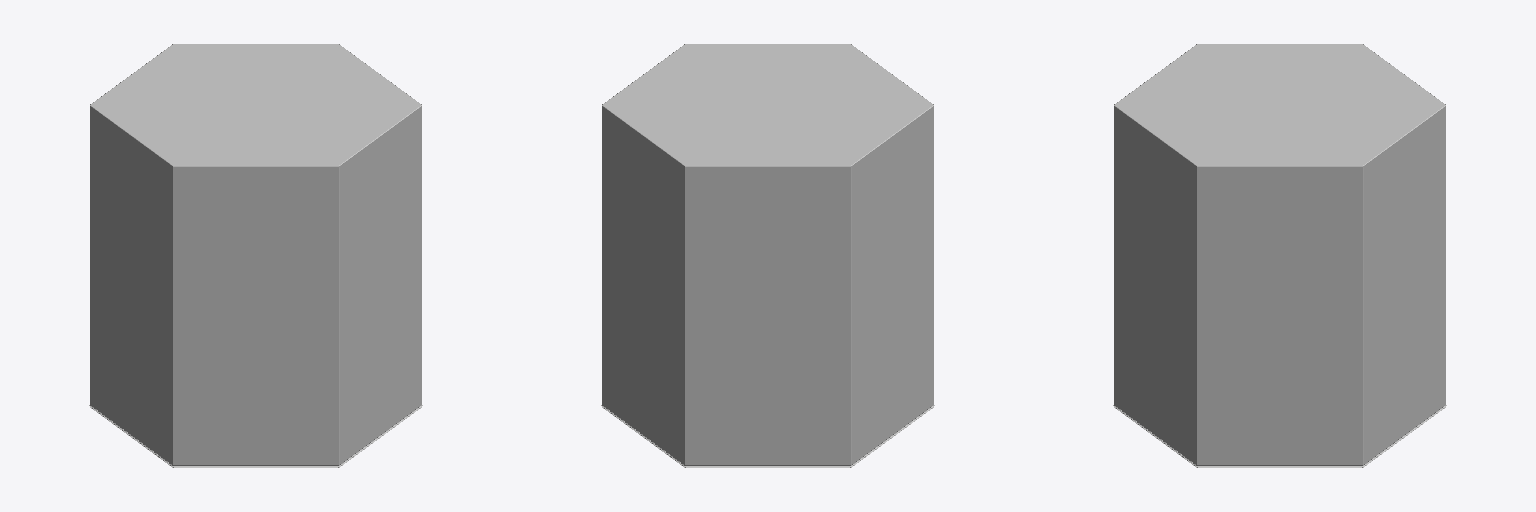
File: hex.obj
3 renders of one model, left to right at view 1: azimuth 30°, elevation 25°; view 2: azimuth 150°, elevation 25°; view 3: azimuth 270°, elevation 25°, orthographic.
Visible parts, largest first — view 1: Cylinder_Cylinder.006; view 2: Cylinder_Cylinder.006; view 3: Cylinder_Cylinder.006.
Boxes of the visible parts, <box> form: Cylinder_Cylinder.006: <box>89,44,422,467</box>; Cylinder_Cylinder.006: <box>601,44,934,467</box>; Cylinder_Cylinder.006: <box>1113,44,1446,467</box>.
Size of the model in its own units: 1.74 by 2 by 2.